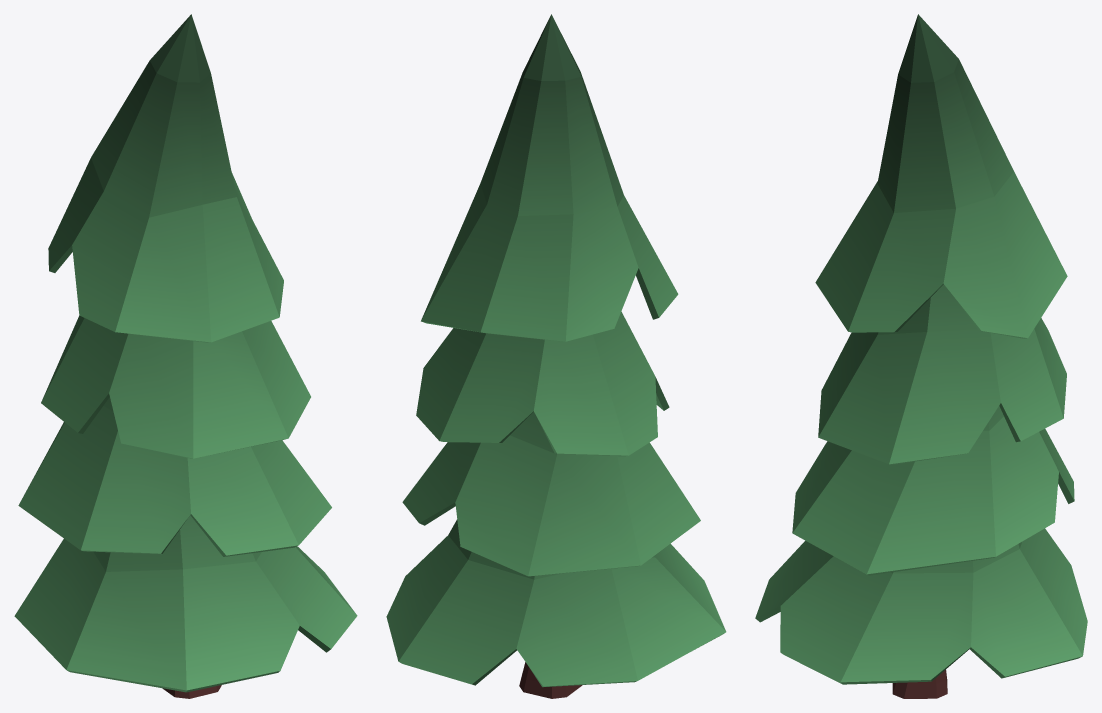
File: DarkPine6.fbx
3 renders of one model, left to right at view 1: azimuth 30°, elevation 25°; view 2: azimuth 150°, elevation 25°; view 3: azimuth 270°, elevation 25°, orthographic.
Visible parts, largest first — view 1: DarkPine6; view 2: DarkPine6; view 3: DarkPine6.
Boxes of the visible parts, <box> form: DarkPine6: <box>14,14,357,698</box>; DarkPine6: <box>386,14,726,698</box>; DarkPine6: <box>755,14,1087,698</box>.
Size of the model in its own units: 499 by 1107 by 495.
